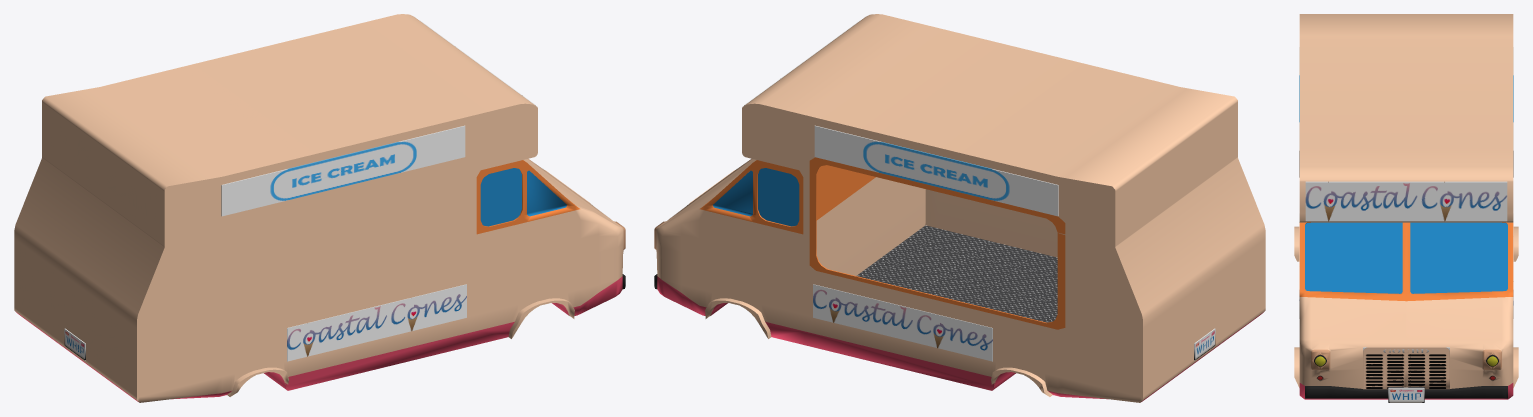
The model's file is Icecream Van.obj.
The picture shows the model from 3 angles, left to right: view 1: azimuth 30°, elevation 25°; view 2: azimuth 150°, elevation 25°; view 3: azimuth 270°, elevation 25°; orthographic projection. The views are drawn at different scales.
Visible parts, largest first — view 1: Van; view 2: Van; view 3: Van.
Part boxes in pixels (x1,y1,x2,y2): Van: [14, 14, 625, 402]; Van: [654, 14, 1265, 402]; Van: [1294, 14, 1518, 402].
Bounding box in the file's own units: 7.13 × 3.24 × 3.19.
